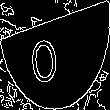O_N: (39, 25, 71, 85)
